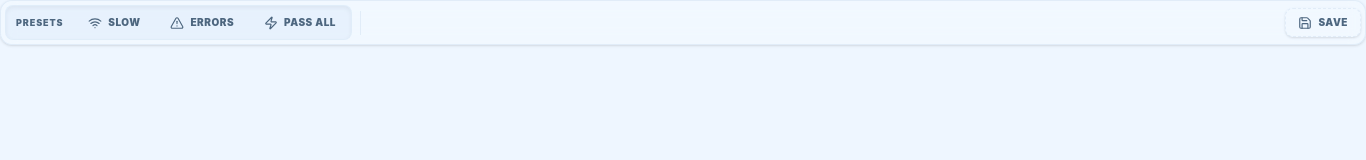
Test: PresetBar › closes save input on X button click
The width and height of the screenshot is (1366, 160).
Click the button "Save".
click(1323, 22)  # box [1286,8,1361,37]
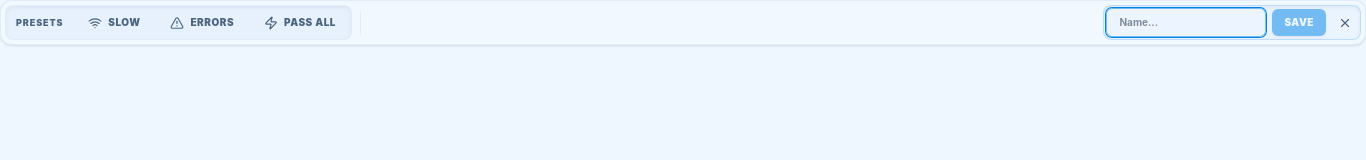
Result: the field with placeholder "Name..." is shown at [1106,8,1266,37]
Find the X close button (has lucide-x class)
Click the 5th button.
click(1345, 22)  # box [1332,10,1358,36]
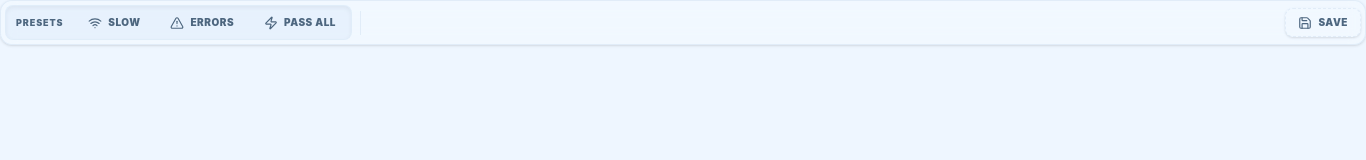
Result: the field with placeholder "Name..." is gone
